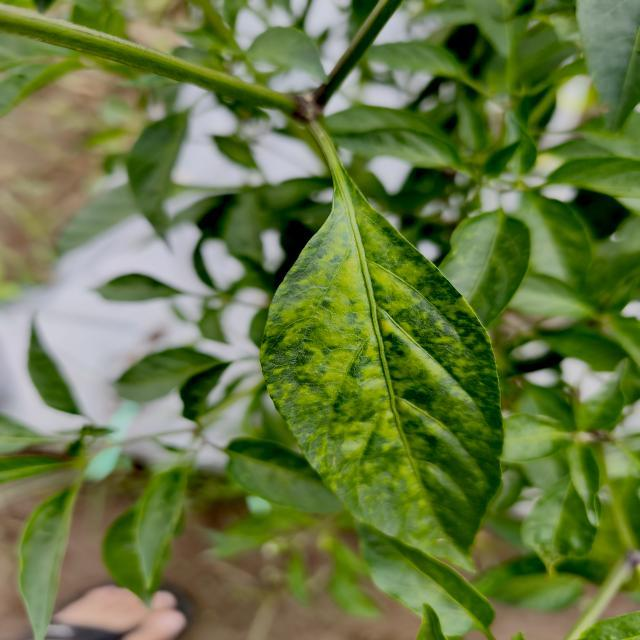Virus Kuning: (257, 181, 506, 574)
